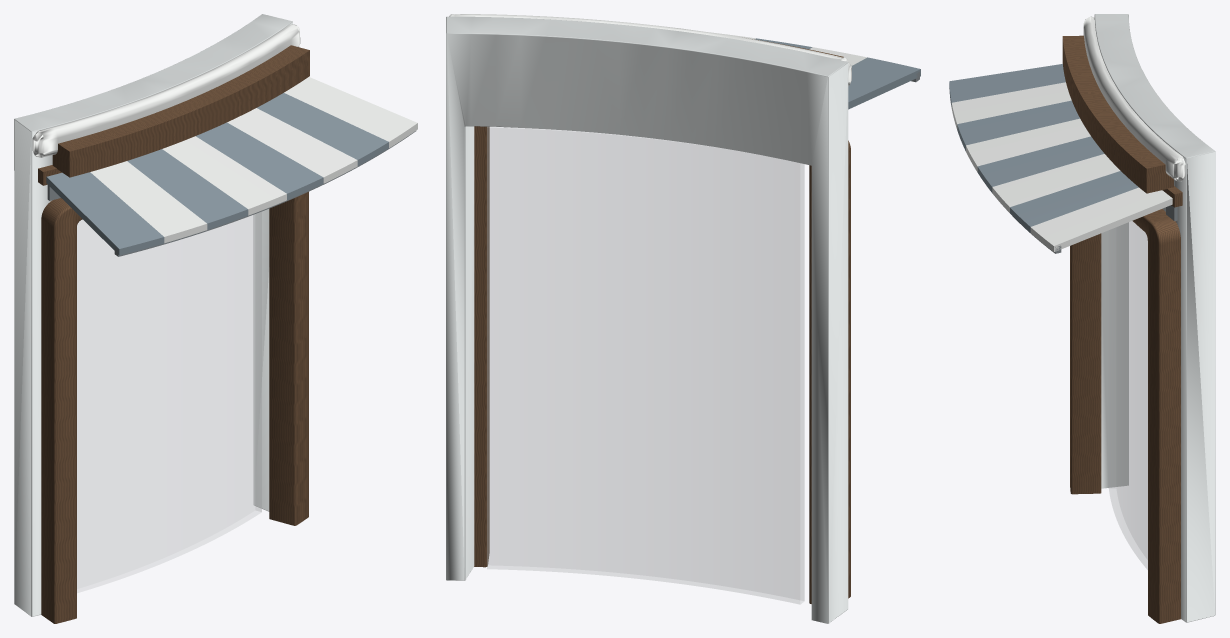
File: ArcShopfront_R4_A30.glb
The picture shows the model from 3 angles, left to right: view 1: azimuth 30°, elevation 25°; view 2: azimuth 150°, elevation 25°; view 3: azimuth 270°, elevation 25°; orthographic projection. The views are drawn at different scales.
Visible parts, largest first — view 1: PBK_Arc_PBK_glass.002, PBK_Continuous_Frame_Modern_Shopfront.003, PBK_substrate.001, PBK_Arc_PBK_signboard.006, PBK_floor_band.001, PBK_Arc_PBK_awning_stripe.006, PBK_Arc_PBK_awning_stripe.007, PBK_Arc_PBK_awning_stripe.011, PBK_Arc_PBK_awning_stripe.012, PBK_Arc_PBK_awning_stripe.013, PBK_Arc_PBK_awning_stripe.014, PBK_Arc_PBK_awning_stripe.015 (+1 smaller); view 2: PBK_Arc_PBK_glass.002, PBK_substrate.001, PBK_Continuous_Frame_Modern_Shopfront.003, PBK_Arc_PBK_awning_stripe.006, PBK_floor_band.001; view 3: PBK_substrate.001, PBK_Continuous_Frame_Modern_Shopfront.003, PBK_Arc_PBK_glass.002, PBK_Arc_PBK_signboard.006, PBK_Arc_PBK_awning_stripe.022, PBK_floor_band.001, PBK_Arc_PBK_awning_stripe.015, PBK_Arc_PBK_awning_stripe.014, PBK_Arc_PBK_awning_stripe.013, PBK_Arc_PBK_awning_stripe.012, PBK_Arc_PBK_awning_stripe.011, PBK_Arc_PBK_awning_stripe.007 (+1 smaller).
Part boxes in pixels (x1=…): PBK_Arc_PBK_glass.002: x1=77, y1=212, x2=261, y2=592; PBK_Continuous_Frame_Modern_Shopfront.003: x1=41, y1=192, x2=308, y2=623; PBK_substrate.001: x1=14, y1=14, x2=292, y2=616; PBK_Arc_PBK_signboard.006: x1=52, y1=45, x2=309, y2=177; PBK_floor_band.001: x1=32, y1=24, x2=300, y2=157; PBK_Arc_PBK_awning_stripe.006: x1=46, y1=172, x2=164, y2=255; PBK_Arc_PBK_awning_stripe.007: x1=90, y1=161, x2=207, y2=243; PBK_Arc_PBK_awning_stripe.011: x1=127, y1=149, x2=248, y2=229; PBK_Arc_PBK_awning_stripe.012: x1=162, y1=136, x2=286, y2=215; PBK_Arc_PBK_awning_stripe.013: x1=196, y1=122, x2=323, y2=199; PBK_Arc_PBK_awning_stripe.014: x1=227, y1=108, x2=357, y2=183; PBK_Arc_PBK_awning_stripe.015: x1=257, y1=93, x2=388, y2=165; PBK_Arc_PBK_glass.002: x1=487, y1=127, x2=804, y2=604; PBK_substrate.001: x1=446, y1=16, x2=848, y2=623; PBK_Continuous_Frame_Modern_Shopfront.003: x1=474, y1=126, x2=850, y2=603; PBK_Arc_PBK_awning_stripe.006: x1=848, y1=57, x2=920, y2=109; PBK_floor_band.001: x1=449, y1=14, x2=851, y2=86; PBK_substrate.001: x1=1094, y1=14, x2=1215, y2=622; PBK_Continuous_Frame_Modern_Shopfront.003: x1=1070, y1=209, x2=1180, y2=623; PBK_Arc_PBK_glass.002: x1=1109, y1=221, x2=1147, y2=569; PBK_Arc_PBK_signboard.006: x1=1062, y1=35, x2=1173, y2=193; PBK_Arc_PBK_awning_stripe.022: x1=1030, y1=187, x2=1172, y2=252; PBK_floor_band.001: x1=1083, y1=16, x2=1185, y2=181; PBK_Arc_PBK_awning_stripe.015: x1=1010, y1=171, x2=1138, y2=232; PBK_Arc_PBK_awning_stripe.014: x1=992, y1=154, x2=1120, y2=212; PBK_Arc_PBK_awning_stripe.013: x1=977, y1=136, x2=1104, y2=192; PBK_Arc_PBK_awning_stripe.012: x1=966, y1=118, x2=1090, y2=172; PBK_Arc_PBK_awning_stripe.011: x1=957, y1=100, x2=1079, y2=151; PBK_Arc_PBK_awning_stripe.007: x1=951, y1=82, x2=1071, y2=129.
Size of the model in its own units: 2.36 by 3 by 1.56.
7 materials, 2 textured.
